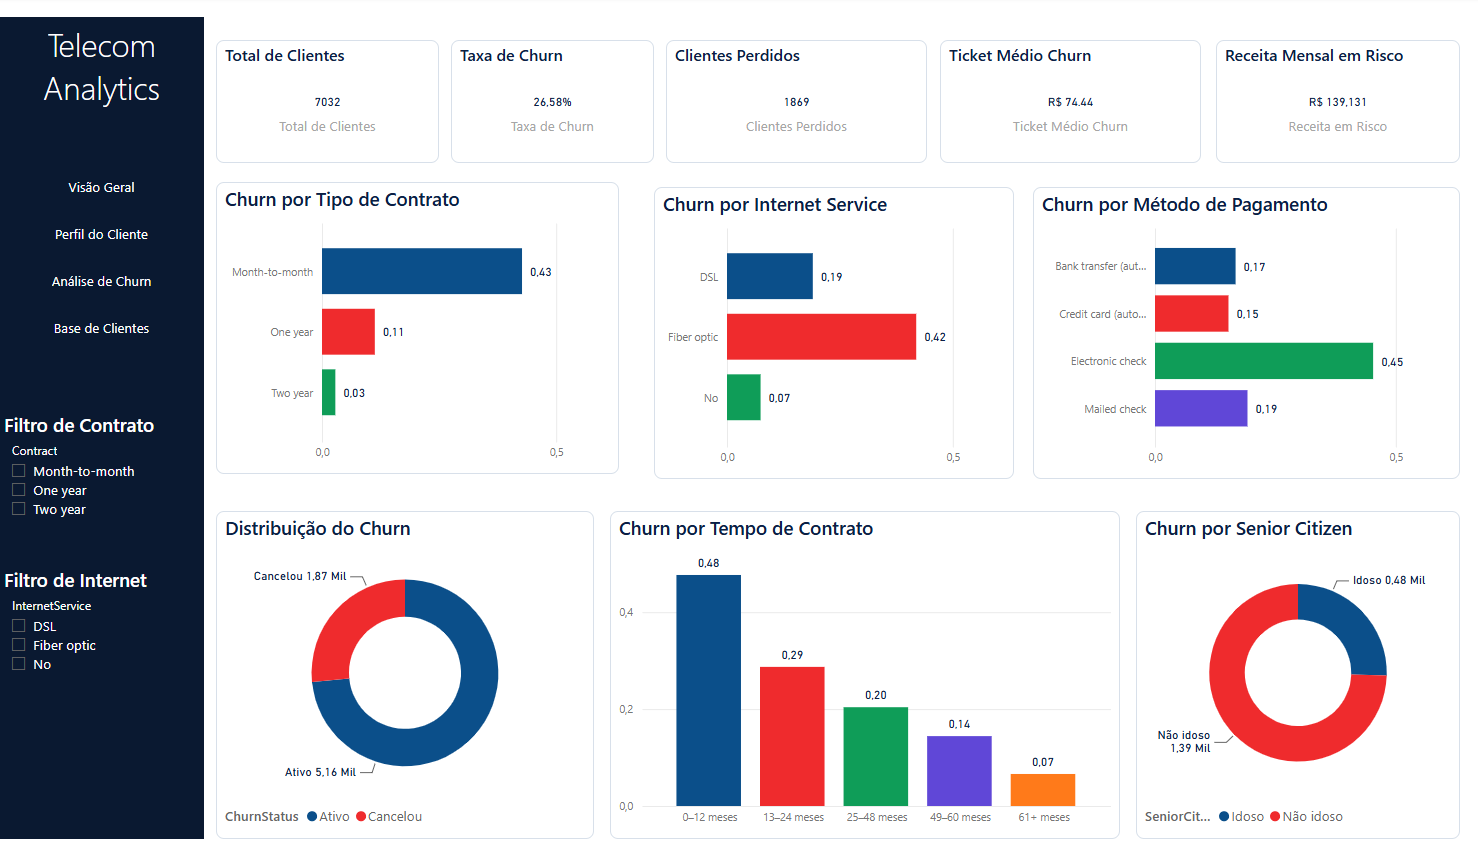

The dashboard page shown, as its layout file describes it:
{"tool":"powerbi","page":{"name":"Visão Geral","canvas":[1280,720],"ordinal":0},"visuals":[{"type":"shape","box":[0,0,176.8,702.9],"z":0},{"type":"card","title":"Total de Clientes","fields":{"Values":["Clientes.Total de Clientes"]},"box":[187.2,19.7,192.3,105.2],"z":1000},{"type":"card","title":"Taxa de Churn","fields":{"Values":["Clientes.Taxa de Churn"]},"box":[389.9,19.7,175.1,105.2],"z":2000},{"type":"card","title":"Clientes Perdidos","fields":{"Values":["Clientes.Clientes Perdidos"]},"box":[575.3,19.7,225.1,105.2],"z":3000},{"type":"card","title":"Ticket Médio Churn","fields":{"Values":["Clientes.Ticket Médio Churn"]},"box":[811.6,19.7,225.1,105.2],"z":4000},{"type":"card","title":"Receita Mensal em Risco","fields":{"Values":["Clientes.Receita em Risco"]},"box":[1049.7,19.7,210.5,105.2],"z":5000},{"type":"clusteredBarChart","title":"Churn por Tipo de Contrato","fields":{"Category":["Clientes.Contract"],"Y":["Clientes.Taxa de Churn"]},"box":[187.2,141.1,347.6,249.7],"z":6000},{"type":"clusteredBarChart","title":"Churn por Internet Service","fields":{"Category":["Clientes.InternetService"],"Y":["Clientes.Taxa de Churn"]},"box":[565,145.4,310.5,249.7],"z":7000},{"type":"clusteredBarChart","title":"Churn por Método de Pagamento","fields":{"Category":["Clientes.PaymentMethod"],"Y":["Clientes.Taxa de Churn"]},"box":[891.9,145.4,368.3,249.7],"z":8000},{"type":"donutChart","title":"Distribuição do Churn","fields":{"Category":["Clientes.ChurnStatus"],"Y":["Clientes.Total de Clientes"]},"box":[187.2,422.4,326,280.5],"z":9000},{"type":"clusteredColumnChart","title":"Churn por Tempo de Contrato","fields":{"Category":["Clientes.TenureBand"],"Y":["Clientes.Taxa de Churn"]},"box":[527,422.4,439.9,280.5],"z":10000},{"type":"donutChart","title":"Churn por Senior Citizen","fields":{"Category":["Clientes.SeniorCitizenLabel"],"Y":["Clientes.Clientes Perdidos"]},"box":[980.7,422.4,279.5,280.5],"z":11000},{"type":"slicer","title":"Filtro de Contrato","fields":{"Values":["Clientes.Contract"]},"box":[0,337.8,176.8,114.6],"z":12000},{"type":"slicer","title":"Filtro de Internet","fields":{"Values":["Clientes.InternetService"]},"box":[0,470.3,176.8,114.6],"z":13000},{"type":"actionButton","box":[0,124.8,176.8,40.2],"z":14000},{"type":"actionButton","box":[0,165,176.8,40.2],"z":15000},{"type":"actionButton","box":[0,205.2,176.8,40.2],"z":16000},{"type":"actionButton","box":[0,245.4,176.8,40.2],"z":17000},{"type":"textbox","box":[0,0,176.8,105.2],"z":18000}]}

Visuals, with their boxes on the page's 1280x720 design canvas (x1, y1, x2, y2). These are canvas units, not pixel positions in the 1478x853 screenshot, which may show the page scaled, cropped or inside an application window:
shape: 0 0 177 703
"Total de Clientes" card: 187 20 380 125
"Taxa de Churn" card: 390 20 565 125
"Clientes Perdidos" card: 575 20 800 125
"Ticket Médio Churn" card: 812 20 1037 125
"Receita Mensal em Risco" card: 1050 20 1260 125
"Churn por Tipo de Contrato" clusteredBarChart: 187 141 535 391
"Churn por Internet Service" clusteredBarChart: 565 145 876 395
"Churn por Método de Pagamento" clusteredBarChart: 892 145 1260 395
"Distribuição do Churn" donutChart: 187 422 513 703
"Churn por Tempo de Contrato" clusteredColumnChart: 527 422 967 703
"Churn por Senior Citizen" donutChart: 981 422 1260 703
"Filtro de Contrato" slicer: 0 338 177 452
"Filtro de Internet" slicer: 0 470 177 585
actionButton: 0 125 177 165
actionButton: 0 165 177 205
actionButton: 0 205 177 245
actionButton: 0 245 177 286
textbox: 0 0 177 105
